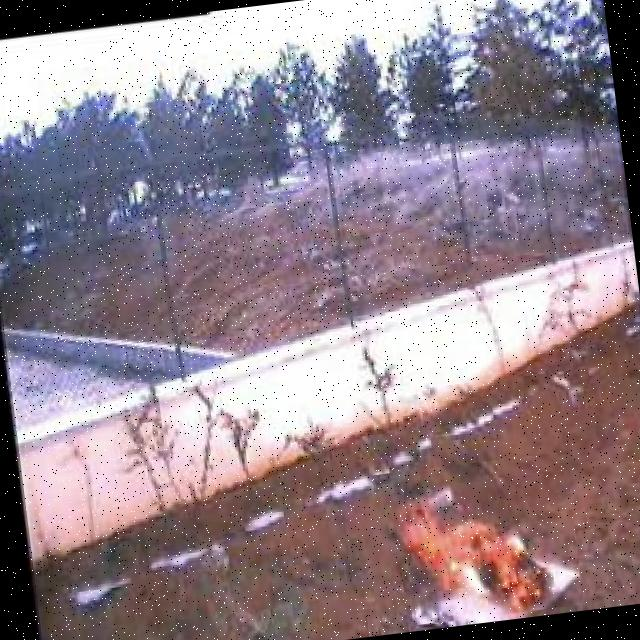fire: (398, 469, 584, 625)
